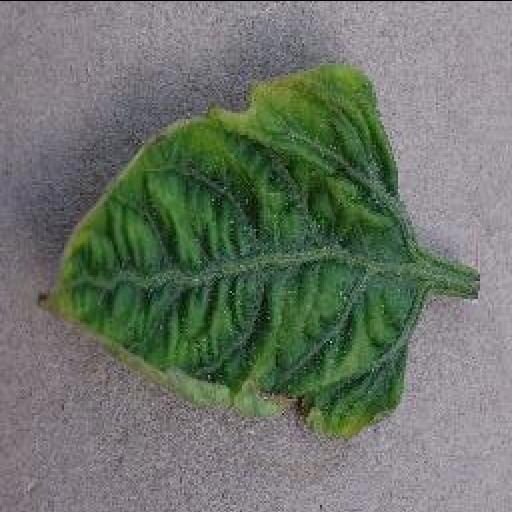disease_tomato: (33, 61, 423, 439)
